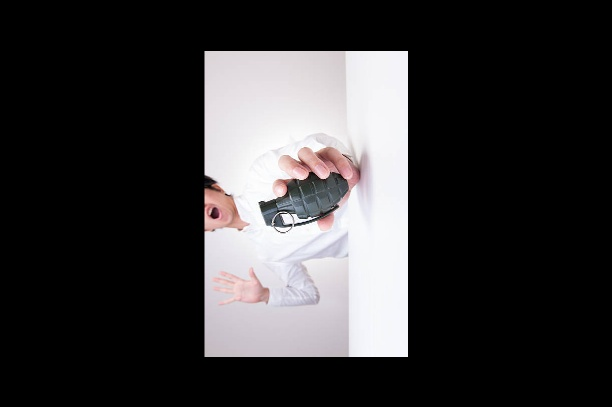e1: (257, 170, 348, 238)
